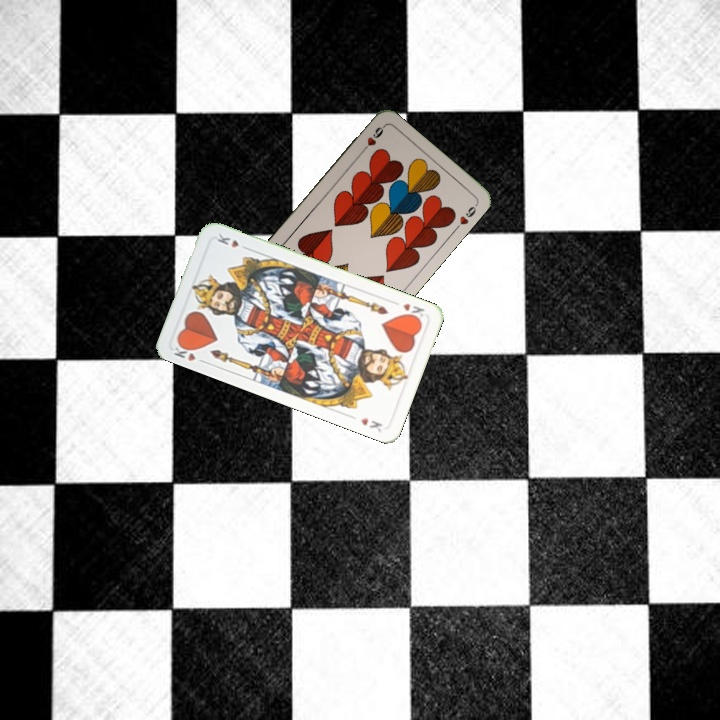H9: (357, 122, 387, 156)
HK: (170, 339, 208, 366), (399, 299, 428, 323)
